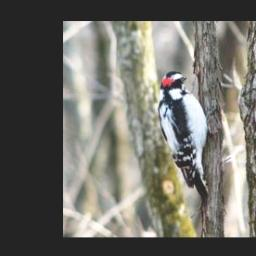Woodpecker: (155, 71, 216, 209)
